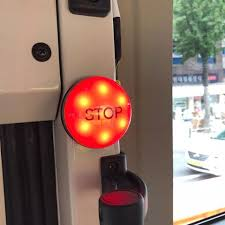bell: (61, 75, 136, 151)
